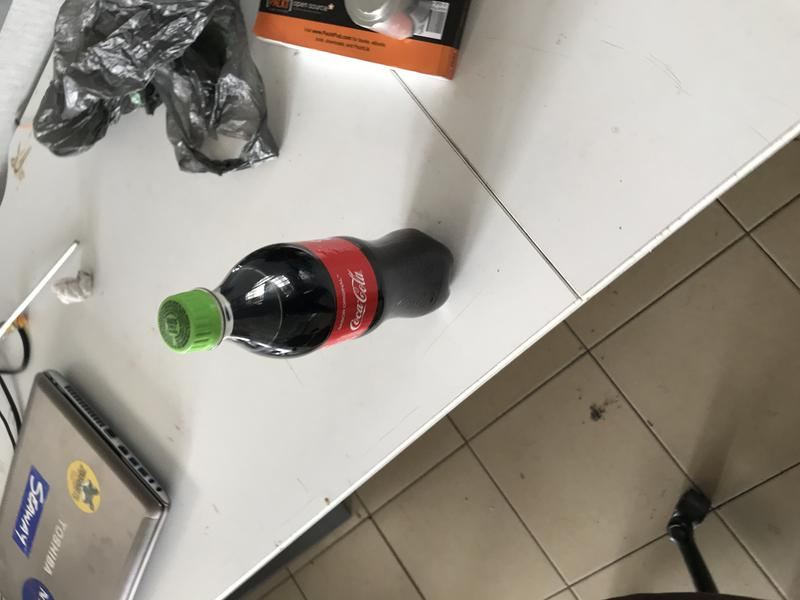coca_cola: (157, 227, 456, 360)
